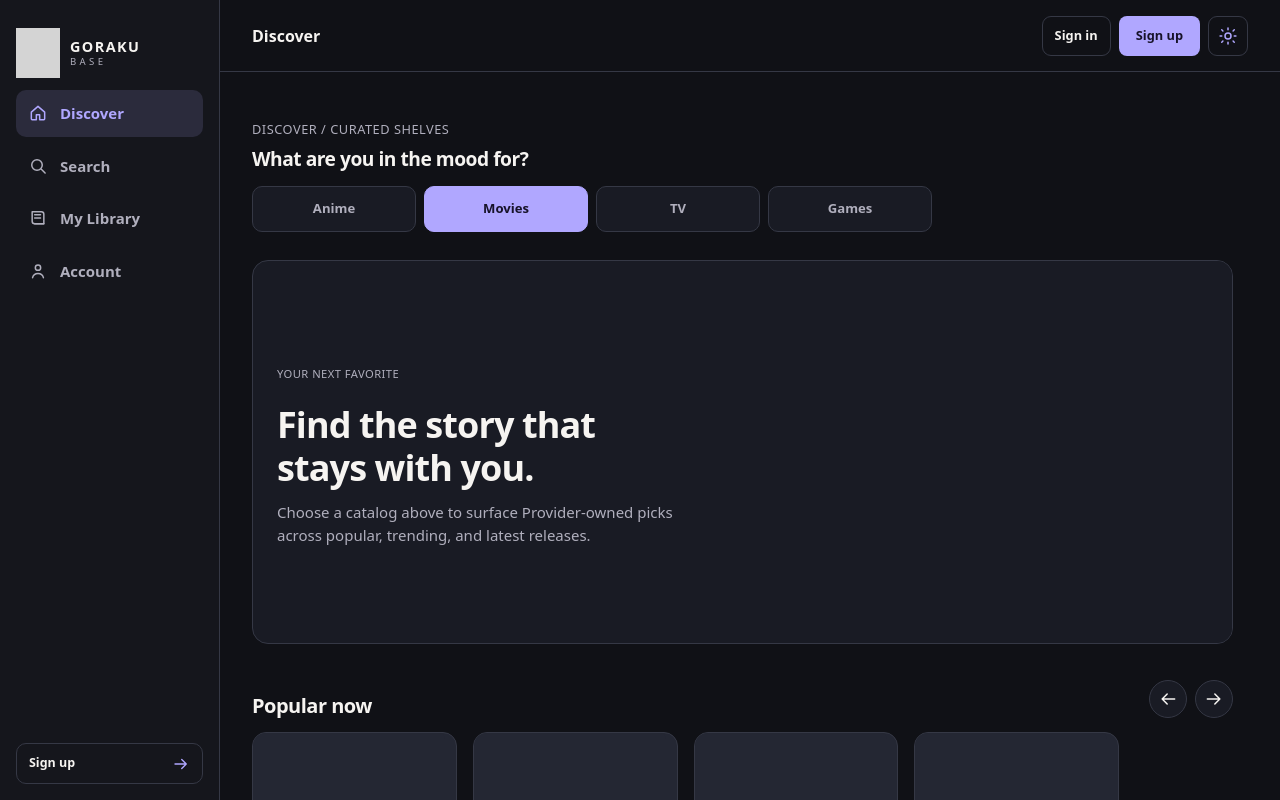
functional Discovery surfaces › announces details loading while the Provider response is pending
The width and height of the screenshot is (1280, 800).
Click the button "Search": [110, 166] box left=16, top=142, right=203, bottom=189
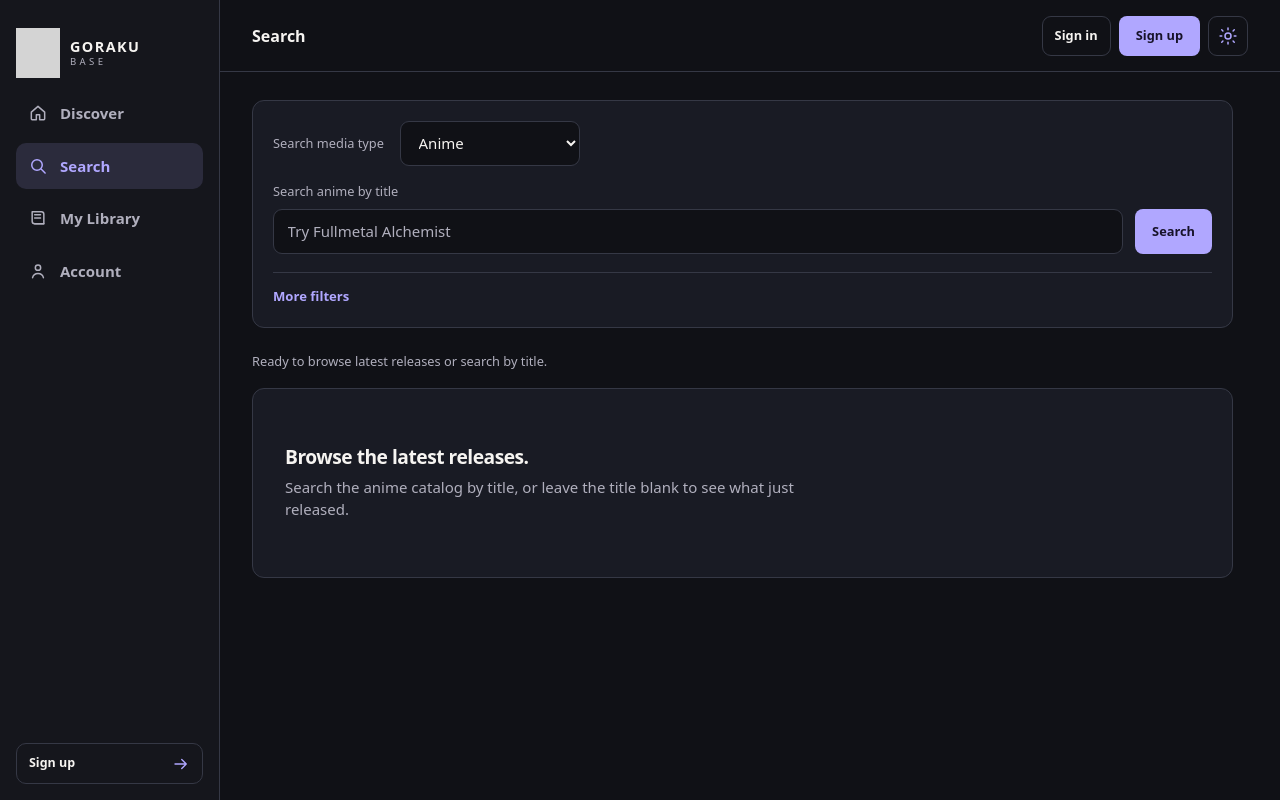
Select "Movies" in the dropdown labelled "Search media type": [490, 143] box left=400, top=121, right=580, bottom=166
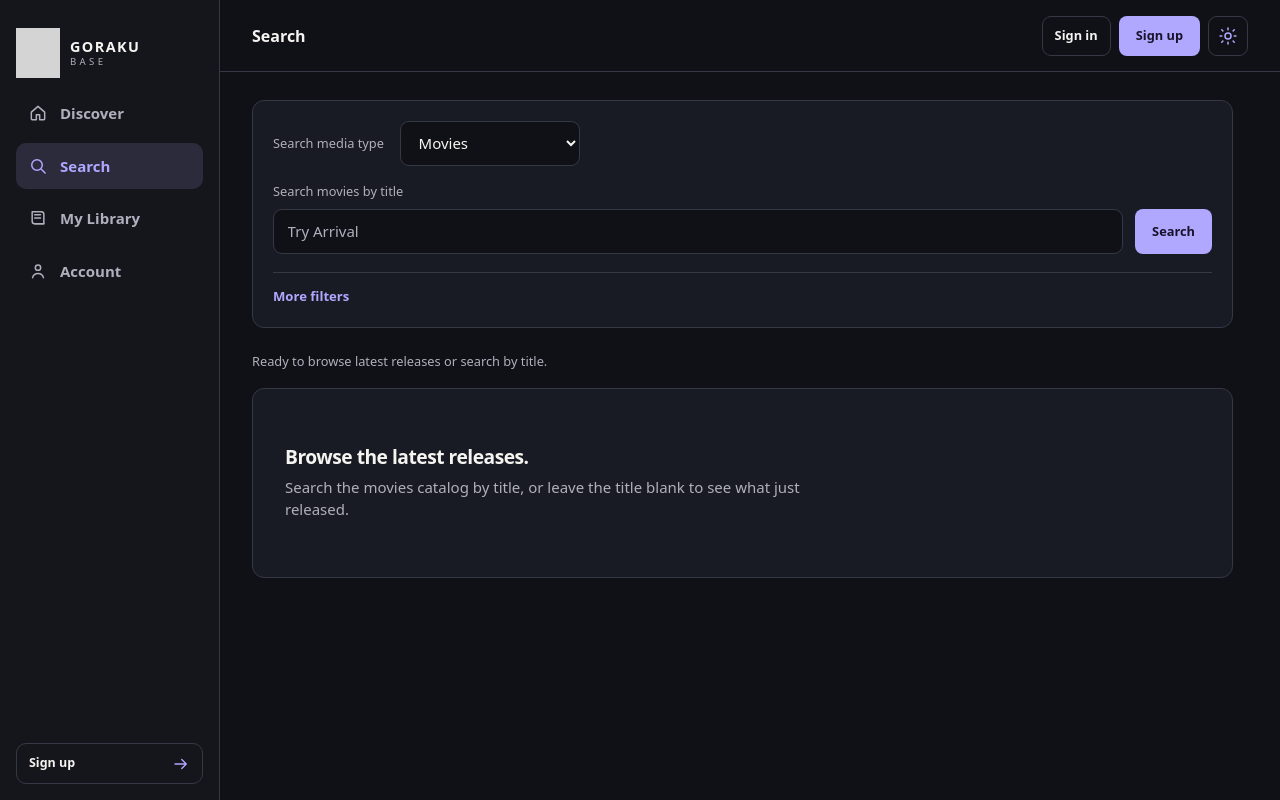
In the search field labelled "Search movies by title": [698, 232] box left=273, top=209, right=1123, bottom=254, type "fight club"
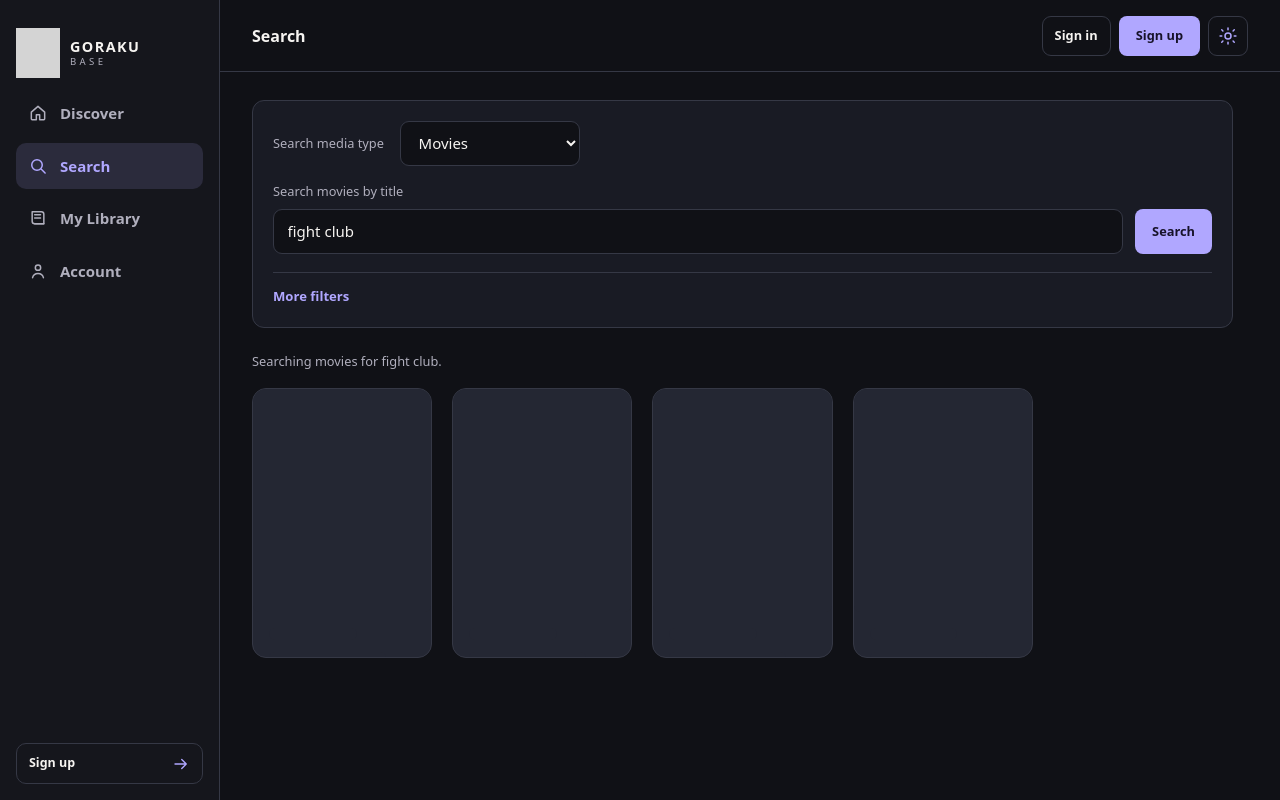
Submit the form "Search movies by title", box left=252, top=100, right=1233, bottom=328
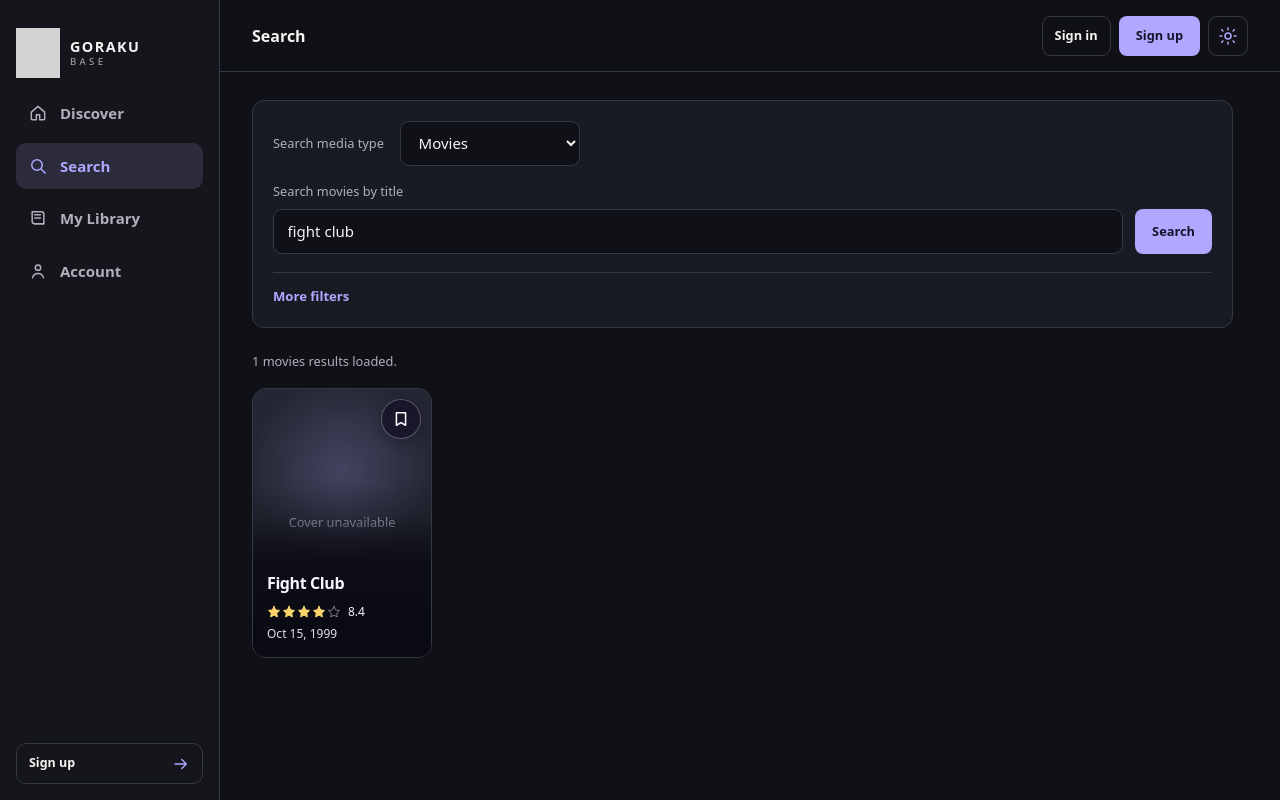
Now the heading "Fight Club" is shown, box left=267, top=572, right=344, bottom=594
Click the button with aria-label "View details for Fight Club": [342, 523] box left=253, top=389, right=431, bottom=657
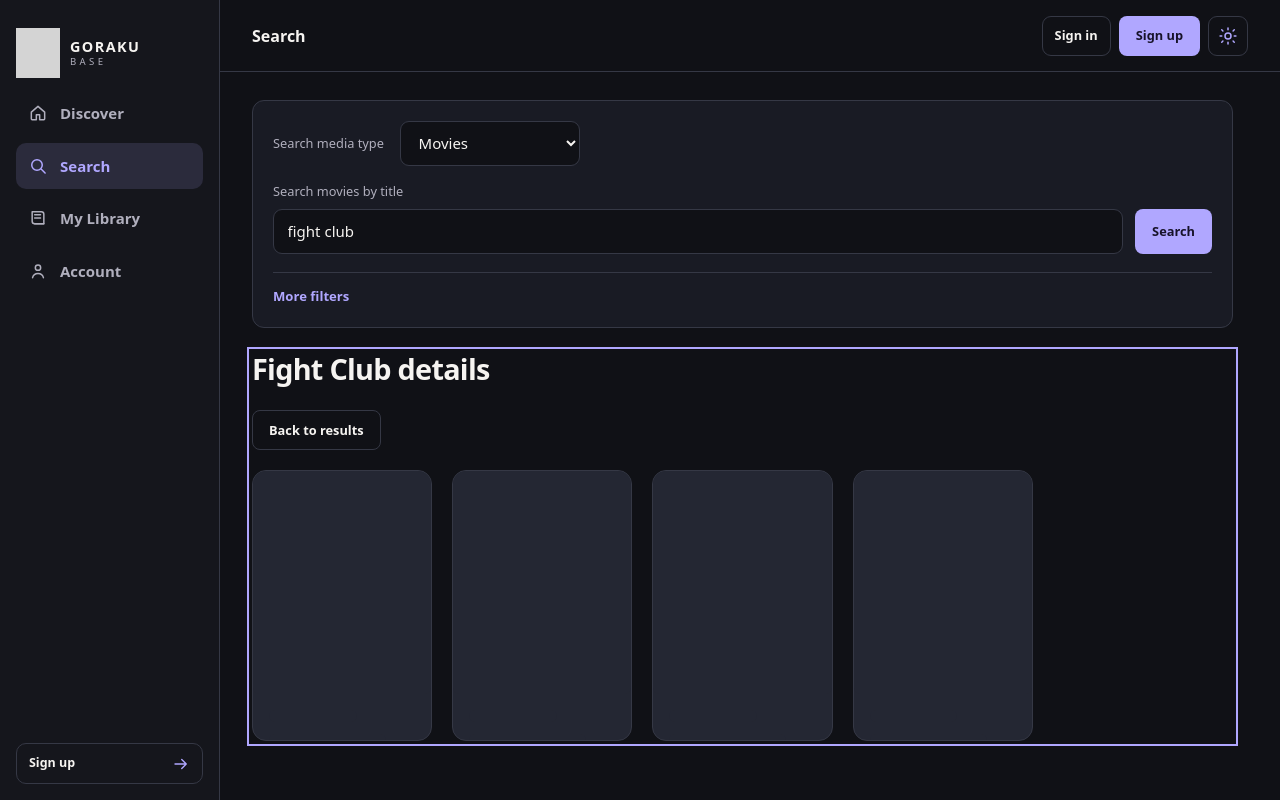
Now the heading "Fight Club details" is shown, box left=252, top=352, right=490, bottom=386
